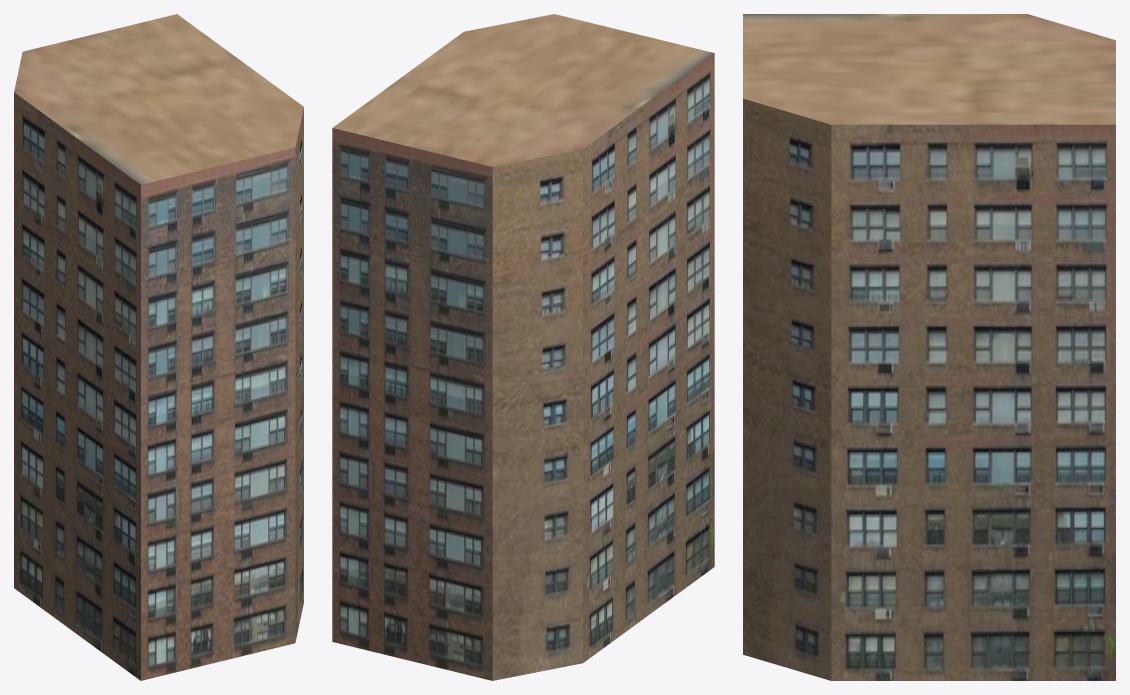
3 renders of one model, left to right at view 1: azimuth 30°, elevation 25°; view 2: azimuth 150°, elevation 25°; view 3: azimuth 270°, elevation 25°, orthographic. The views are drawn at different scales.
Visible parts, largest first — view 1: ny-low-6; view 2: ny-low-6; view 3: ny-low-6.
Part boxes in pixels (x1,y1,x2,y2): ny-low-6: [14, 14, 303, 680]; ny-low-6: [332, 14, 714, 680]; ny-low-6: [743, 14, 1115, 680].
Bounding box in the file's own units: 44.38 × 104 × 63.1.
1 material, 1 textured.
